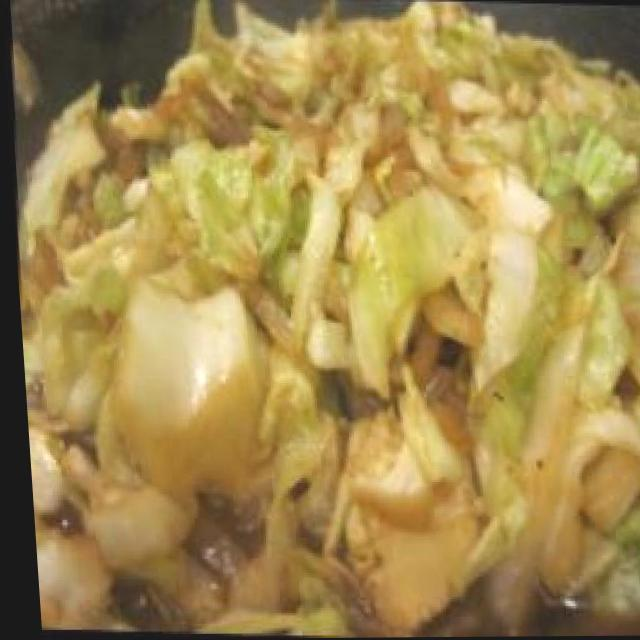chinese_cabbage: (1, 21, 640, 613)
